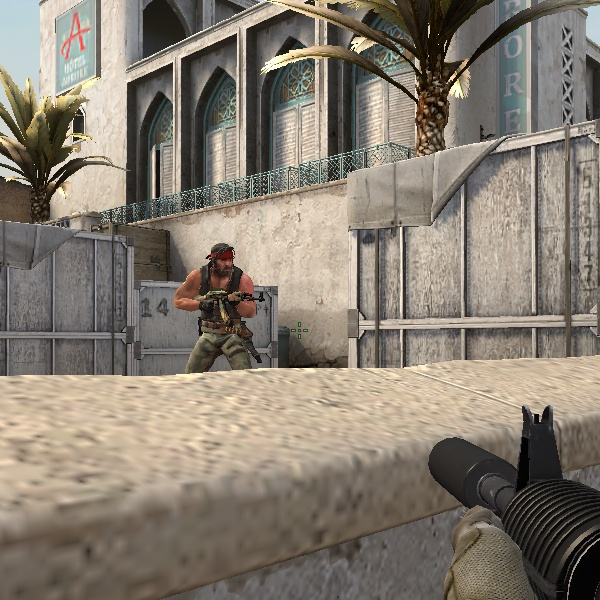t_body: (173, 241, 271, 369)
t_head: (201, 240, 244, 283)
